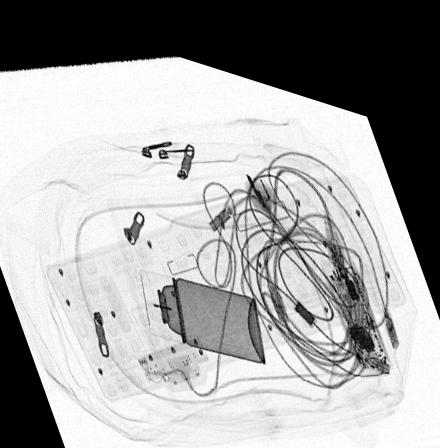Sprayer: (138, 259, 267, 349)
